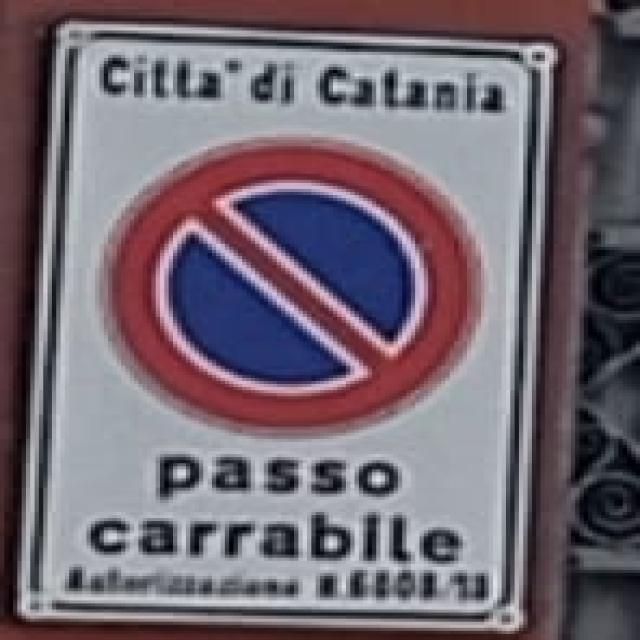forb_stopping: (91, 133, 487, 444)
